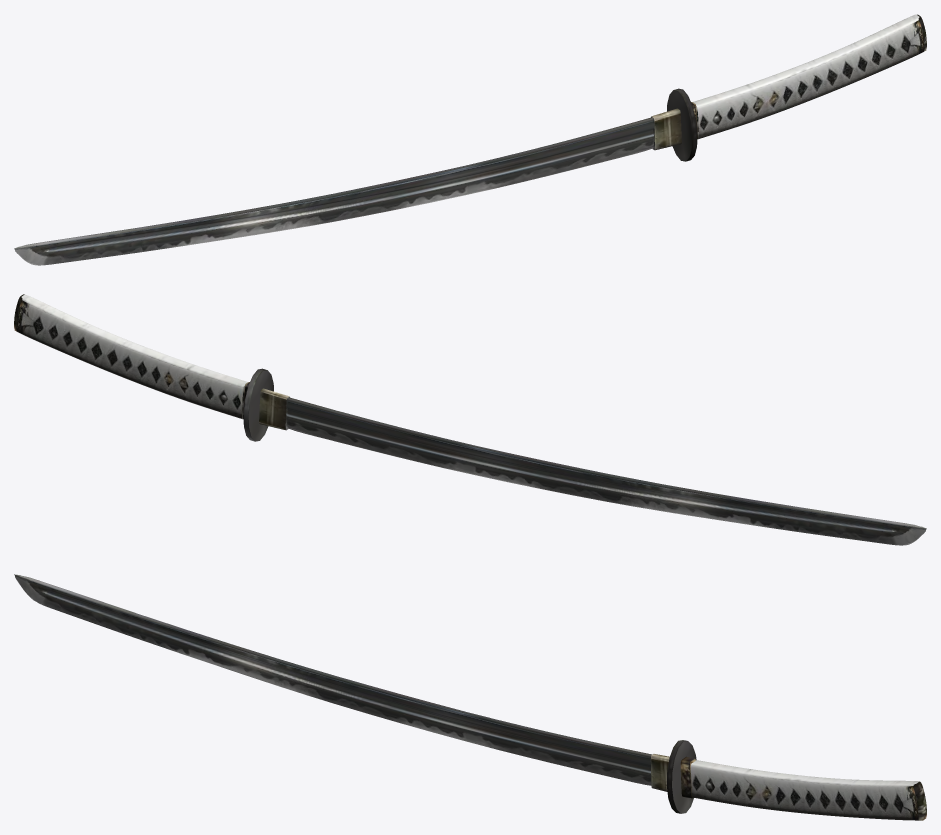
The model's file is relic-blade.glb.
3 views of the same model, one above another, from view 1: azimuth 30°, elevation 25°; view 2: azimuth 150°, elevation 25°; view 3: azimuth 330°, elevation 25° (orthographic).
Visible parts, largest first — view 1: pCube4_ref_storm_blade_0, pCube4_ref_storm_0; view 2: pCube4_ref_storm_blade_0, pCube4_ref_storm_0; view 3: pCube4_ref_storm_blade_0, pCube4_ref_storm_0.
Part boxes in pixels (left/top/right/bottom): pCube4_ref_storm_blade_0: left=14, top=88, right=697, bottom=265; pCube4_ref_storm_0: left=691, top=14, right=926, bottom=139; pCube4_ref_storm_blade_0: left=243, top=368, right=926, bottom=545; pCube4_ref_storm_0: left=14, top=294, right=249, bottom=419; pCube4_ref_storm_blade_0: left=14, top=574, right=696, bottom=813; pCube4_ref_storm_0: left=680, top=756, right=926, bottom=820.
Bounding box in the file's own units: 115 × 10.54 × 5.58.
Materials: 2 (2 with a texture image).
